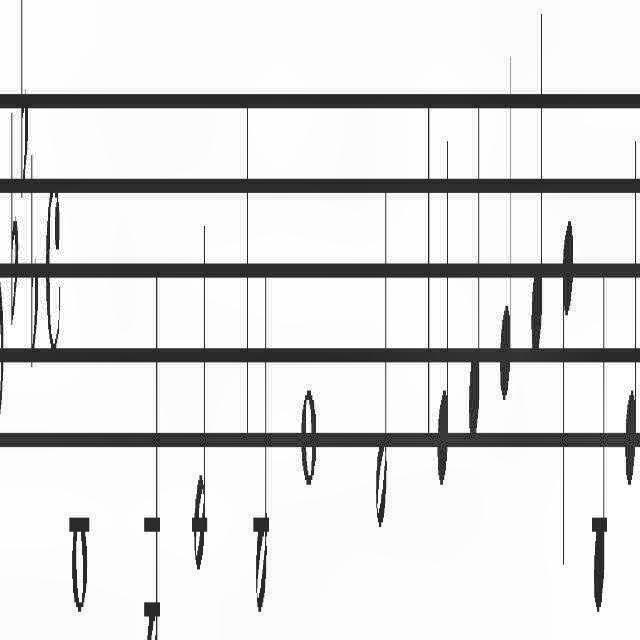Bemol: (30, 140, 38, 372), (10, 108, 18, 336), (20, 0, 28, 198)
Full-note: (300, 380, 318, 492), (72, 517, 88, 629)
Half-note: (144, 259, 160, 640), (192, 202, 208, 582), (254, 238, 270, 618), (376, 162, 388, 542)
Quarter-note: (559, 210, 573, 582), (468, 86, 480, 466), (438, 134, 450, 510), (530, 4, 542, 376), (624, 130, 636, 498), (593, 253, 605, 619), (500, 39, 512, 404)
